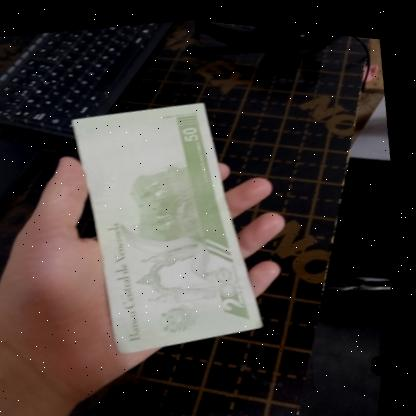fifty-back-vef: (54, 79, 291, 366)
